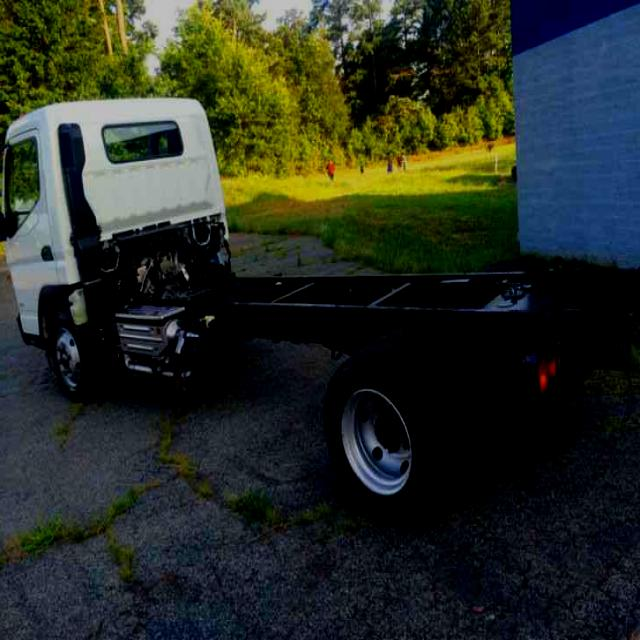truck: (1, 94, 640, 519)
